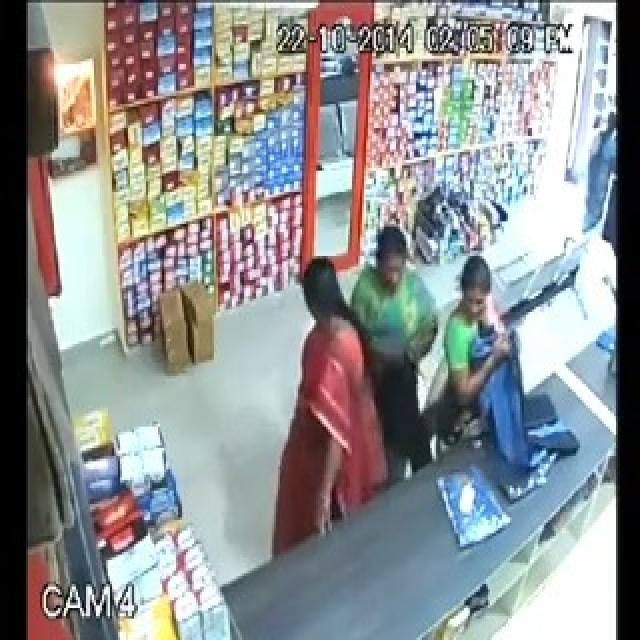Normal: (259, 238, 394, 584), (442, 232, 596, 532), (355, 215, 447, 514)
